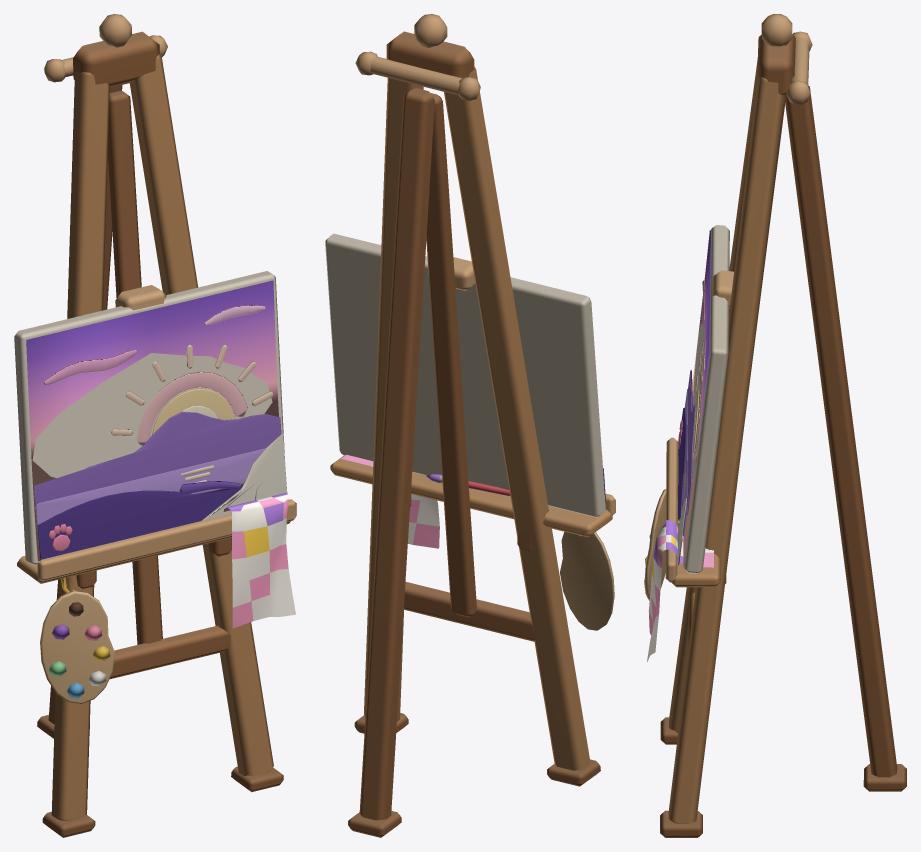
The model's file is furn-artEasel.glb.
3 views of the same model, side by side, from view 1: azimuth 30°, elevation 25°; view 2: azimuth 150°, elevation 25°; view 3: azimuth 270°, elevation 25° (orthographic). The views are drawn at different scales.
Parts seen in each view (by area): view 1: furn; view 2: furn; view 3: furn.
Part boxes in pixels (x1=…): furn: x1=14, y1=14, x2=296, y2=837; furn: x1=325, y1=14, x2=615, y2=837; furn: x1=644, y1=14, x2=906, y2=837.
Bounding box in the file's own units: 0.5223 × 1.46 × 0.4524.
